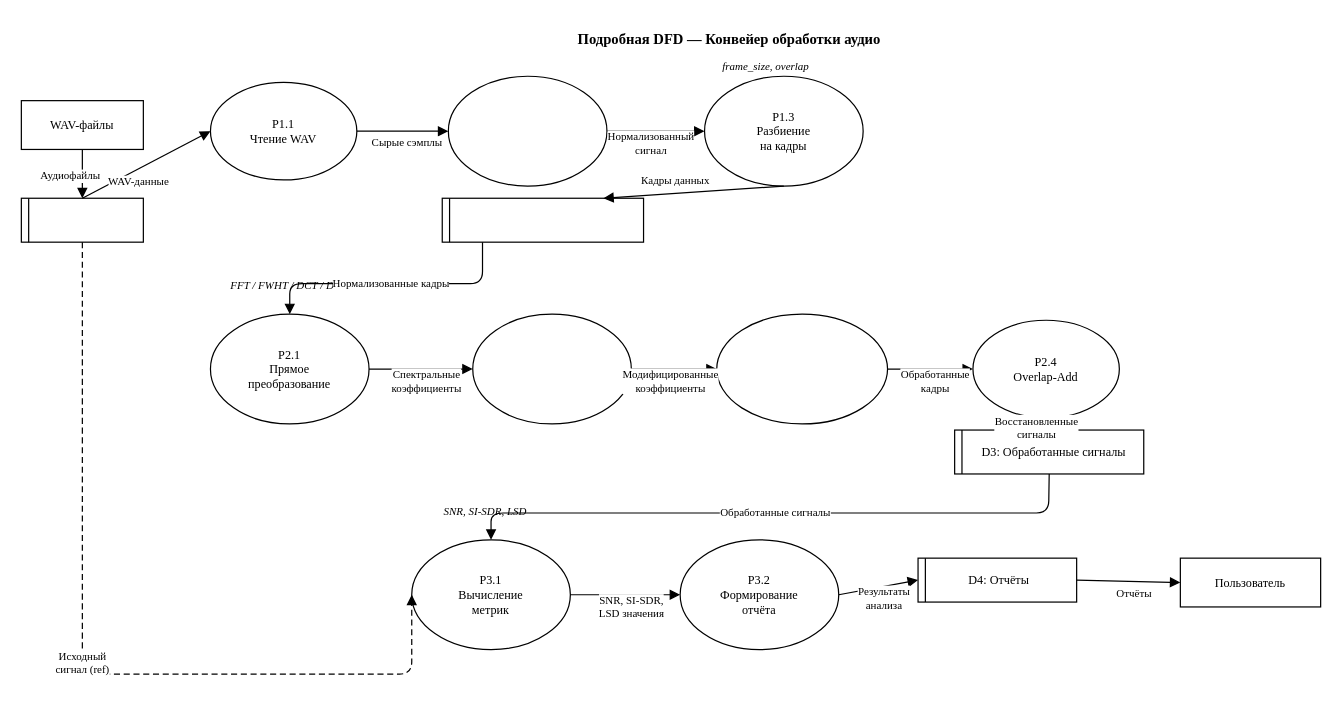
Image size: 1342x705. Some labels were removed from this diagram. The centre of each missing label's shape, as x and y in pixels:
"D1: Аудиодатасет" goes at point (81, 219).
"D2: Нормализованные данные" goes at point (542, 219).
"P1.2 Нормализация амплитуды" goes at point (527, 130).
"P2.2 Пороговая обработка" goes at point (551, 368).
"P2.3 Обратное преобразование" goes at point (802, 368).
